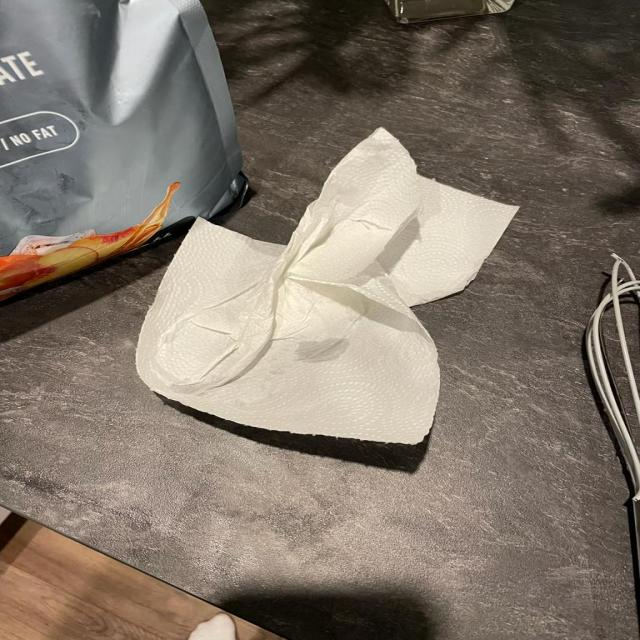kitchen paper: (136, 117, 530, 458)
